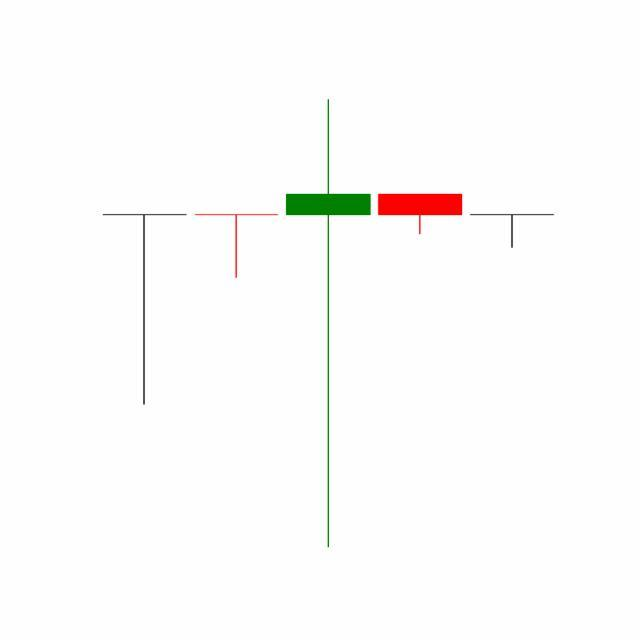Dragonfly Doji: (466, 214, 559, 250)
